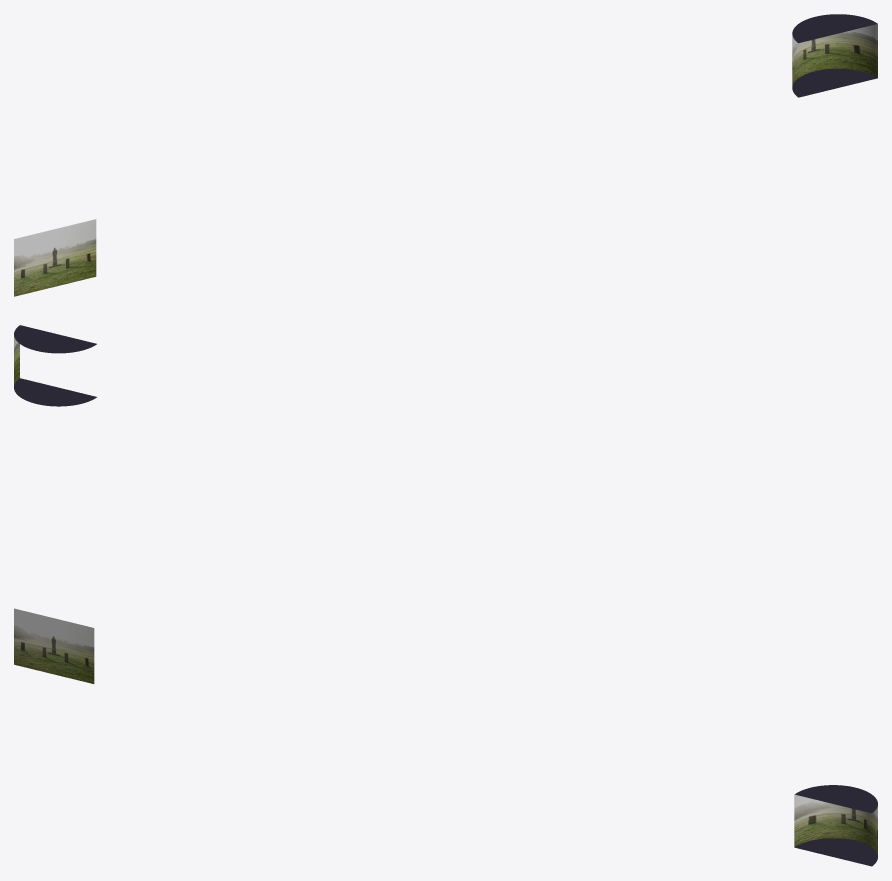
File: mahnmal1.glb
3 renders of one model, top to bottom at view 1: azimuth 30°, elevation 25°; view 2: azimuth 150°, elevation 25°; view 3: azimuth 330°, elevation 25°, orthographic. The views are drawn at different scales.
Parts seen in each view (by area): view 1: root, Komponente#2; view 2: Komponente#2, root; view 3: root, Komponente#2.
Part boxes in pixels (box(x1,y1,x2,y2)): root: box(14, 68, 877, 296); Komponente#2: box(792, 14, 877, 86); Komponente#2: box(14, 325, 96, 385); root: box(14, 378, 96, 406); root: box(14, 608, 877, 866); Komponente#2: box(794, 785, 877, 854).
Bounding box in the file's own units: 48.68 × 3.08 × 2.98.
Materials: 3 (2 with a texture image).
